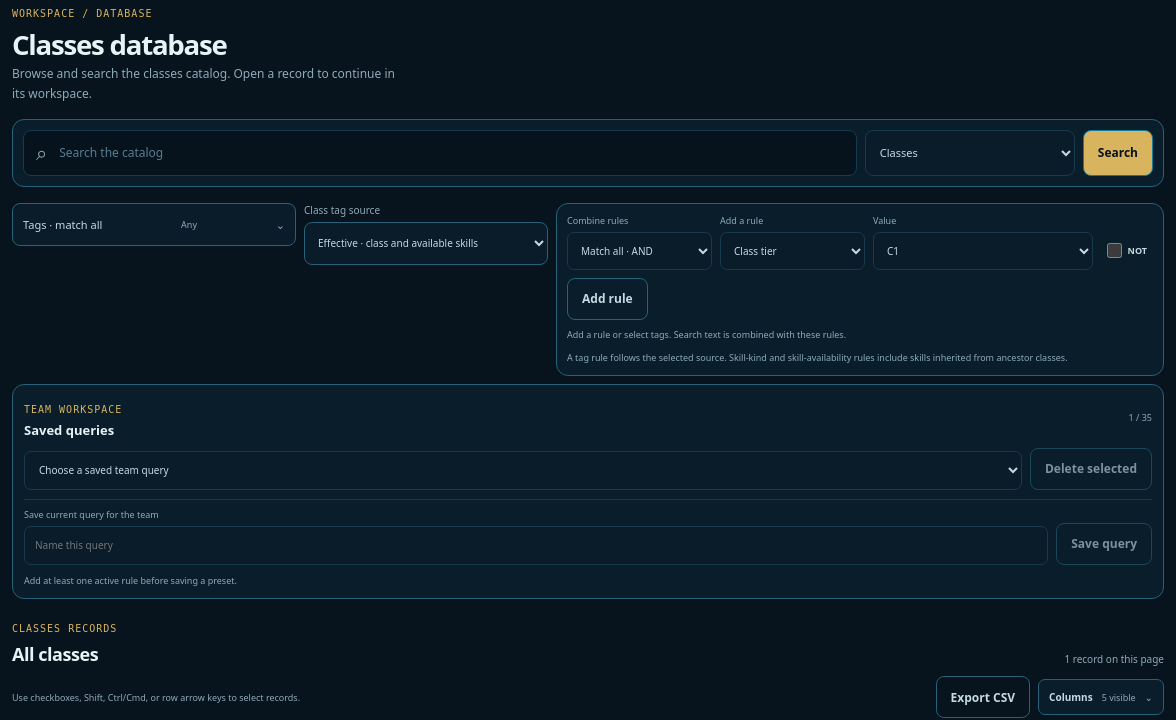
Database class tag queries › applies a persisted team query to the current class list
Select "C2 without skills" in the dropdown named "Apply a saved query" at (523, 470), box [24, 451, 1022, 490]
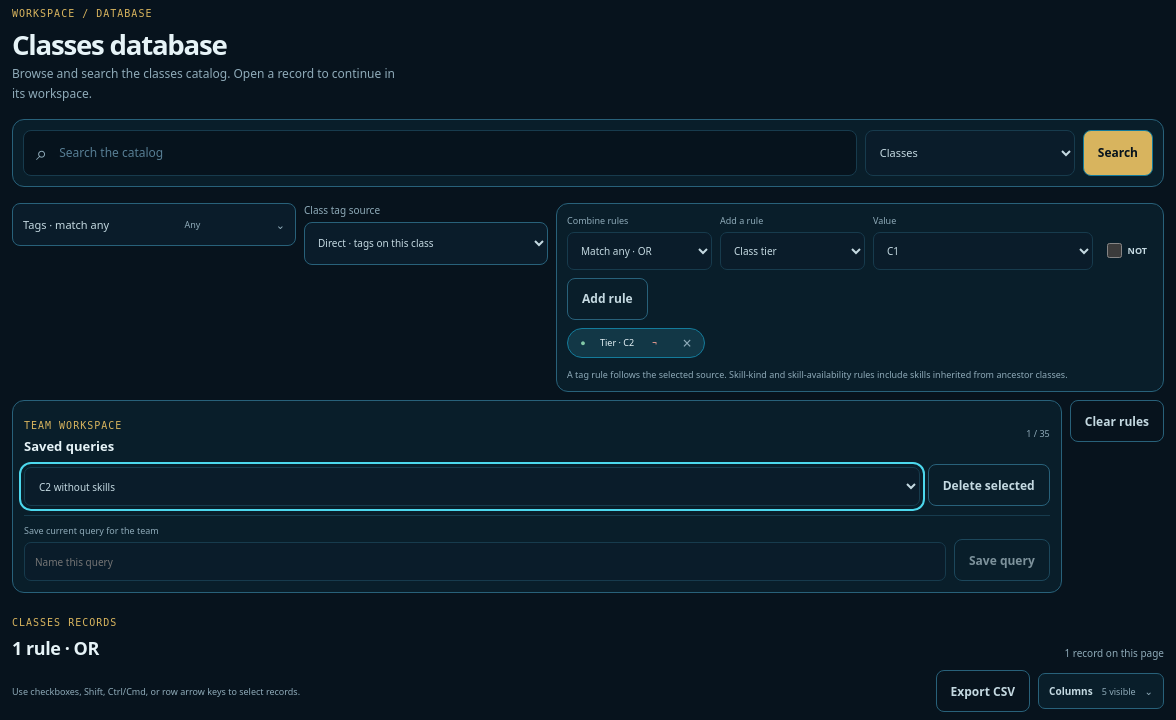
Now the heading "1 rule · OR" is shown, box [12, 636, 99, 660]
